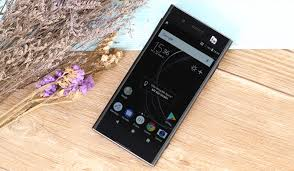sony: (88, 2, 232, 170)
